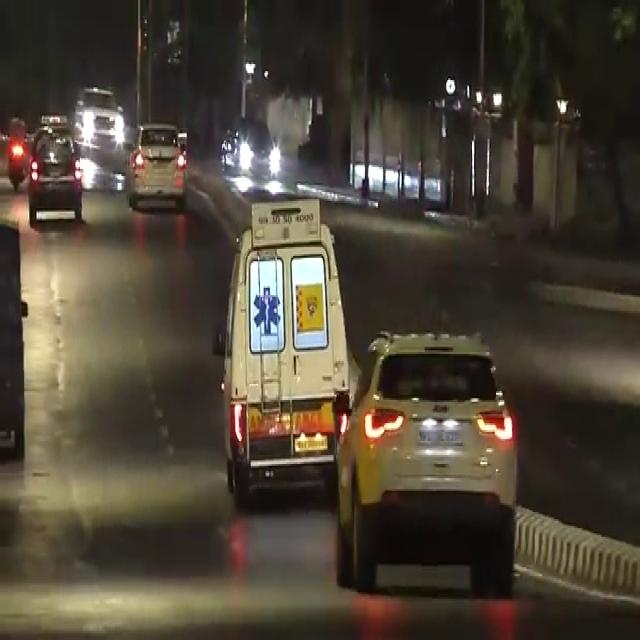ambulance: (217, 214, 349, 474)
